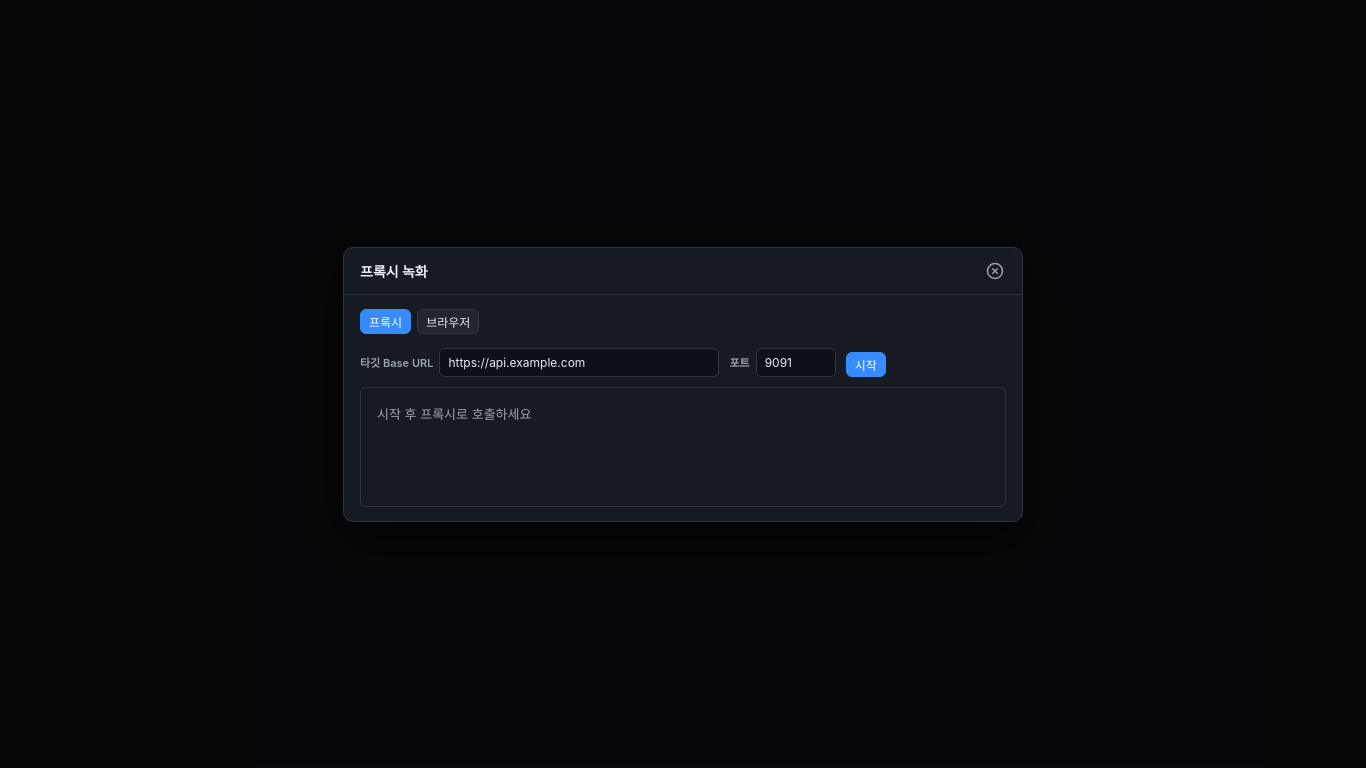
ProxyModal 추가 동작 › PORT_IN_USE 에러 시 포트 충돌 안내
Click the button "시작" at (866, 364), box [846,352,886,376]
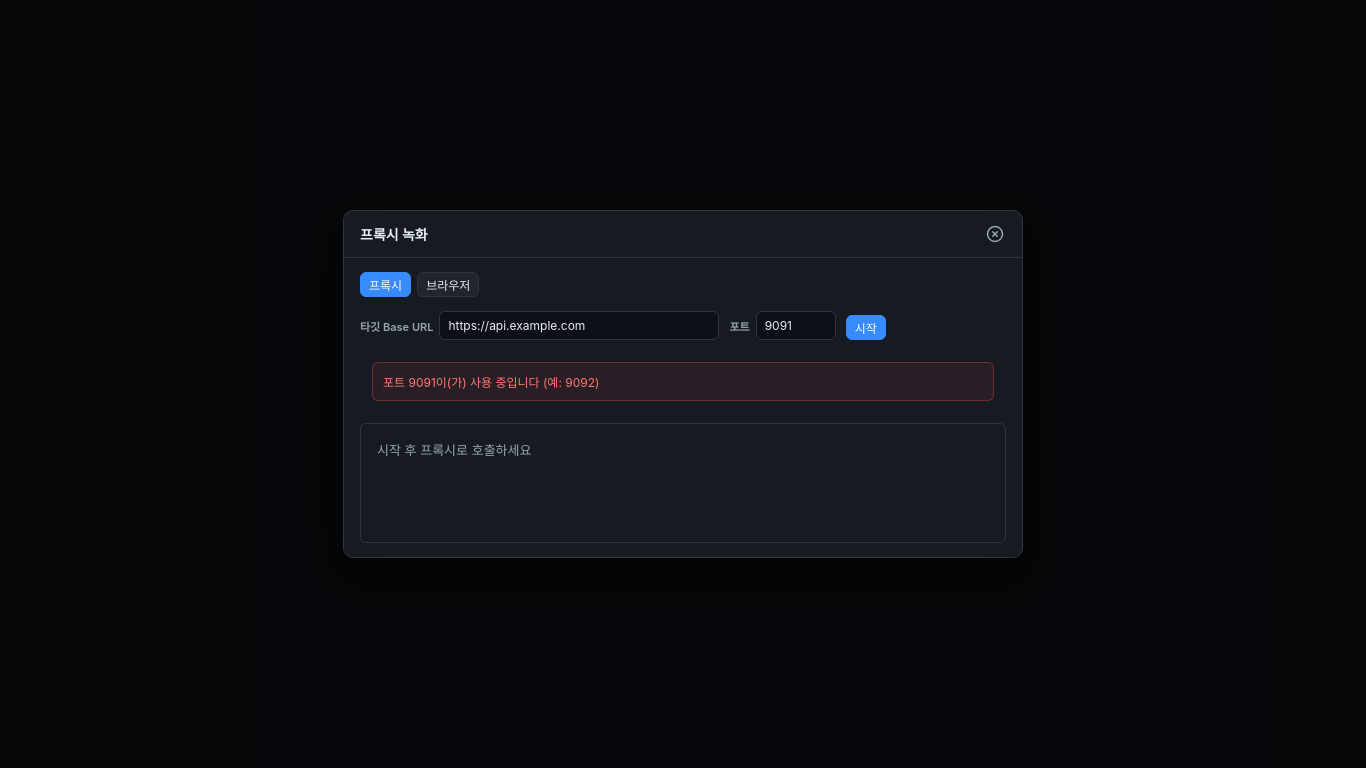
Check: the text "포트 9091이(가) 사용 중입니다 (예: 9092)" is shown, box [372,362,994,401]
